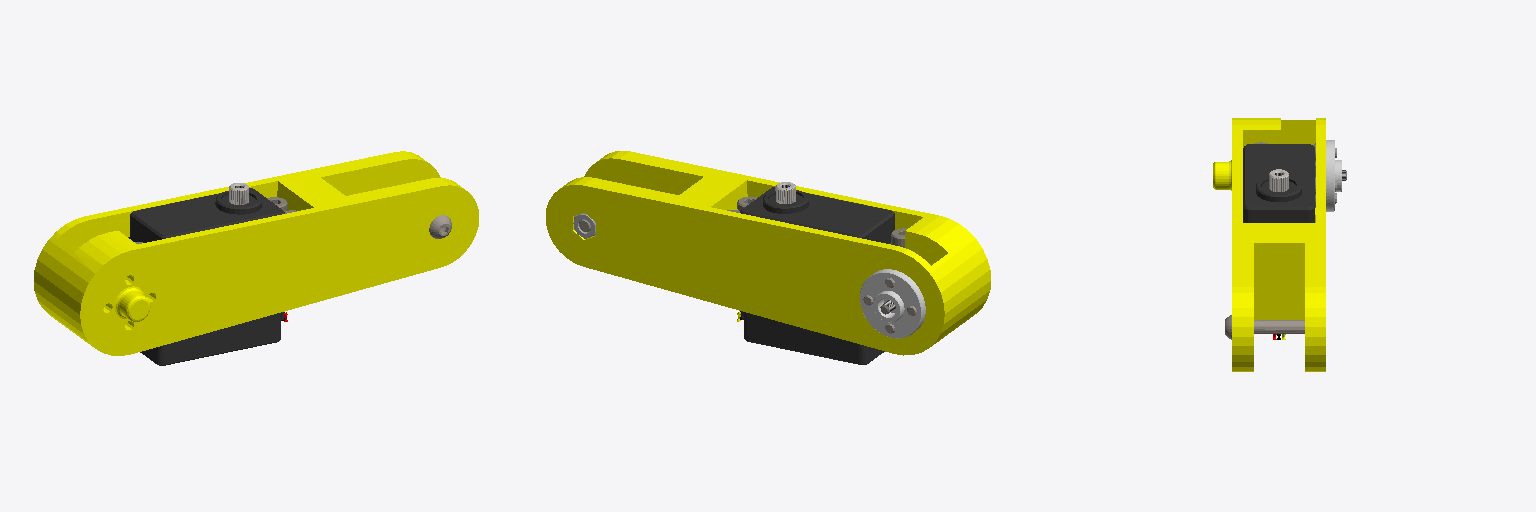
The picture shows the model from 3 angles: view 1: azimuth 30°, elevation 25°; view 2: azimuth 150°, elevation 25°; view 3: azimuth 270°, elevation 25°; orthographic projection.
Parts seen in each view (by area): view 1: mesh 5 L2 joint-1/L - Leg1-1, mesh 7 L2 joint-1/M4 Nut DIN 934-6; view 2: mesh 5 L2 joint-1/L - Leg1-1, mesh 7 L2 joint-1/M4 Nut DIN 934-6, mesh 6 L2 joint-1/M4 x 16 DIN 912-8; view 3: mesh 5 L2 joint-1/L - Leg1-1, mesh 7 L2 joint-1/M4 Nut DIN 934-6, mesh 1 L2 joint-1/M4 x 26 ISO 7380-1, mesh 6 L2 joint-1/M4 x 16 DIN 912-8.
Boxes of the visible parts, box(x1,y1,x2,y2) form: mesh 5 L2 joint-1/L - Leg1-1: box(34, 151, 478, 355); mesh 7 L2 joint-1/M4 Nut DIN 934-6: box(128, 188, 284, 365); mesh 5 L2 joint-1/L - Leg1-1: box(546, 151, 990, 355); mesh 7 L2 joint-1/M4 Nut DIN 934-6: box(740, 187, 894, 364); mesh 6 L2 joint-1/M4 x 16 DIN 912-8: box(860, 269, 925, 338); mesh 5 L2 joint-1/L - Leg1-1: box(1213, 118, 1325, 371); mesh 7 L2 joint-1/M4 Nut DIN 934-6: box(1243, 144, 1314, 222); mesh 1 L2 joint-1/M4 x 26 ISO 7380-1: box(1225, 143, 1336, 339); mesh 6 L2 joint-1/M4 x 16 DIN 912-8: box(1326, 140, 1341, 211).
Bounding box in the file's own units: 0.1285 × 0.0459 × 0.0375.
Materials: 12 (1 with a texture image).